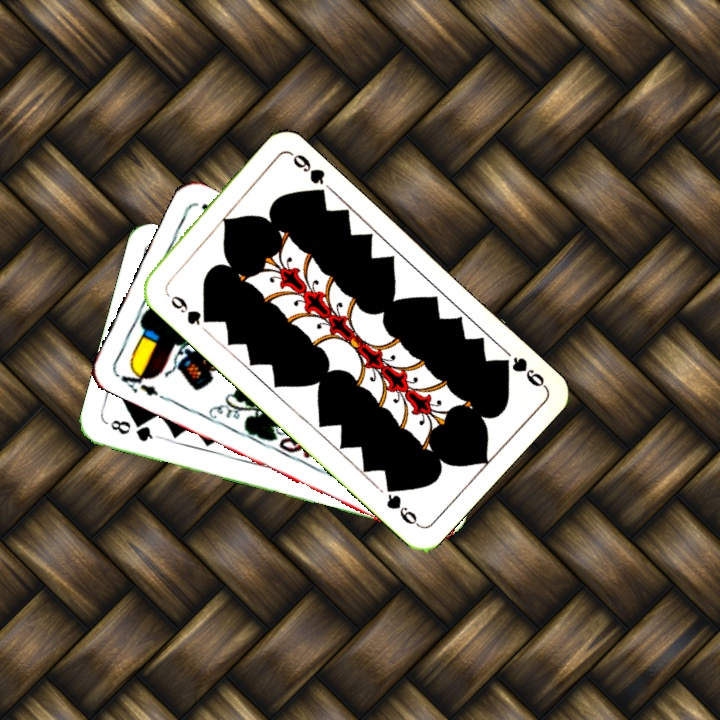EA: (114, 363, 169, 404)
G8: (106, 415, 161, 445)
G9: (494, 352, 549, 390), (166, 291, 213, 329)
